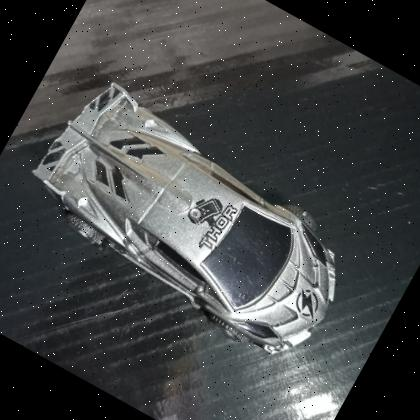Car: (32, 84, 336, 356)
